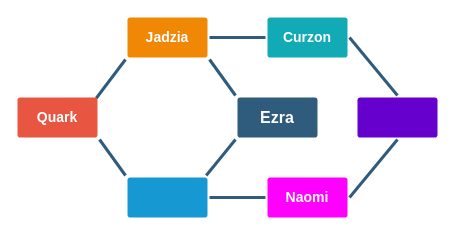
This 454x234 diagram has some shape labels left out. Each missing label, with the centre of its shape:
Cisco: the point at 167,197
Garak: the point at 397,117
